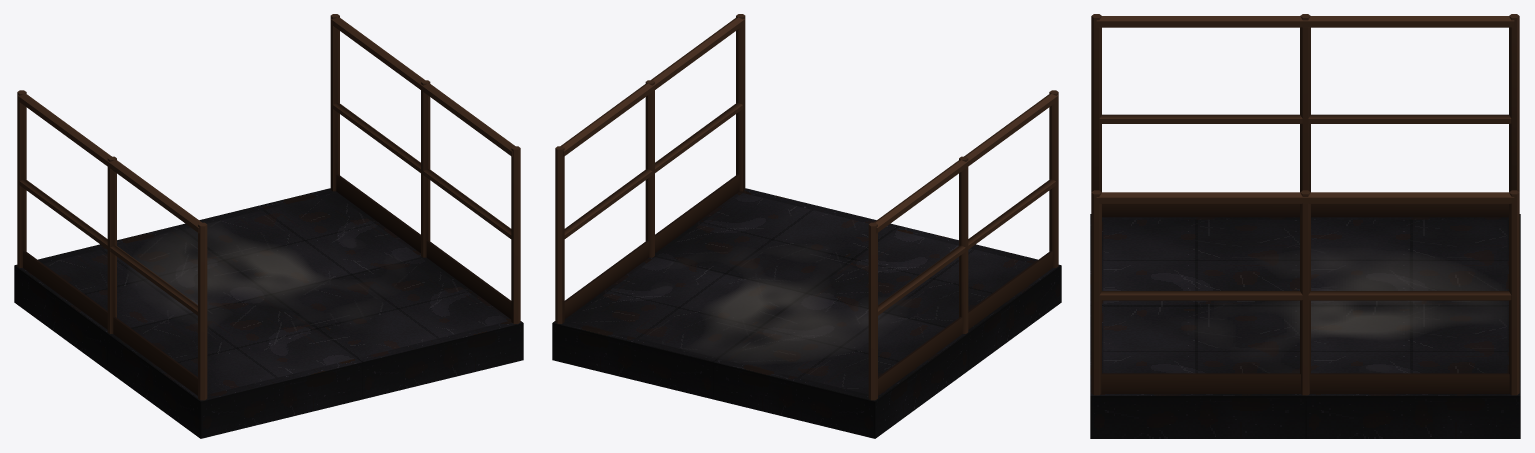
The model's file is catwalk_2m.glb.
The picture shows the model from 3 angles, left to right: view 1: azimuth 30°, elevation 25°; view 2: azimuth 150°, elevation 25°; view 3: azimuth 270°, elevation 25°; orthographic projection. The views are drawn at different scales.
Parts seen in each view (by area): view 1: body, opt_rail_left, opt_rail_right, decals; view 2: body, opt_rail_left, opt_rail_right, decals; view 3: body, opt_rail_right, opt_rail_left, decals.
Part boxes in pixels (left/top/right/bottom): body: left=14, top=188, right=523, bottom=438; opt_rail_left: left=17, top=90, right=207, bottom=400; opt_rail_right: left=330, top=14, right=520, bottom=323; decals: left=140, top=232, right=323, bottom=309; body: left=552, top=188, right=1061, bottom=438; opt_rail_left: left=868, top=90, right=1058, bottom=400; opt_rail_right: left=555, top=14, right=745, bottom=323; decals: left=706, top=279, right=884, bottom=358; body: left=1090, top=214, right=1520, bottom=438; opt_rail_right: left=1091, top=190, right=1519, bottom=395; opt_rail_left: left=1091, top=14, right=1519, bottom=217; decals: left=1284, top=256, right=1496, bottom=337.
Size of what is drawn, in the model's own units: 2 by 1.25 by 2.
4 materials, 3 textured.
